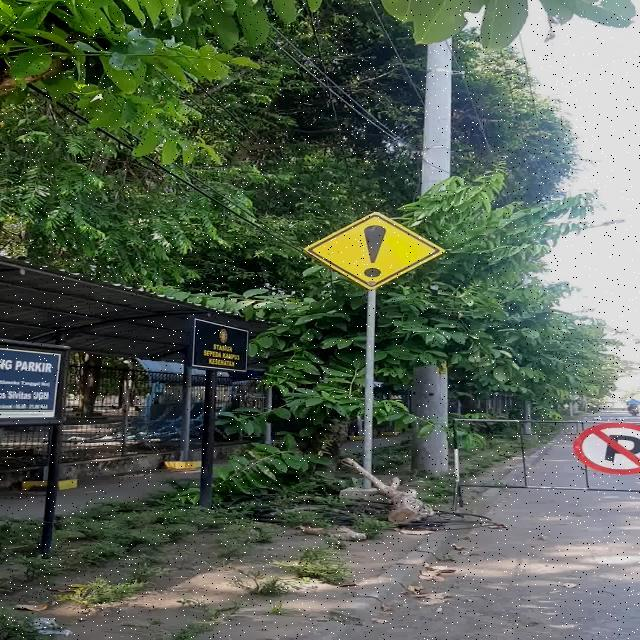Hati-Hati: (303, 212, 445, 290)
